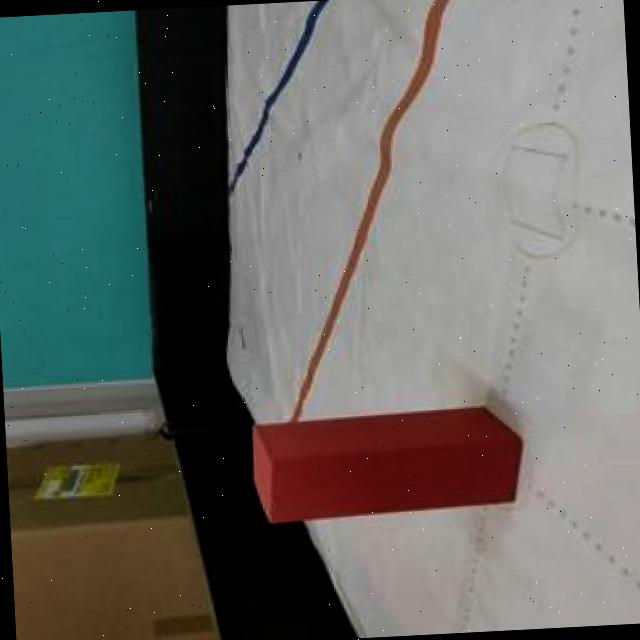redbox: (249, 406, 526, 524)
